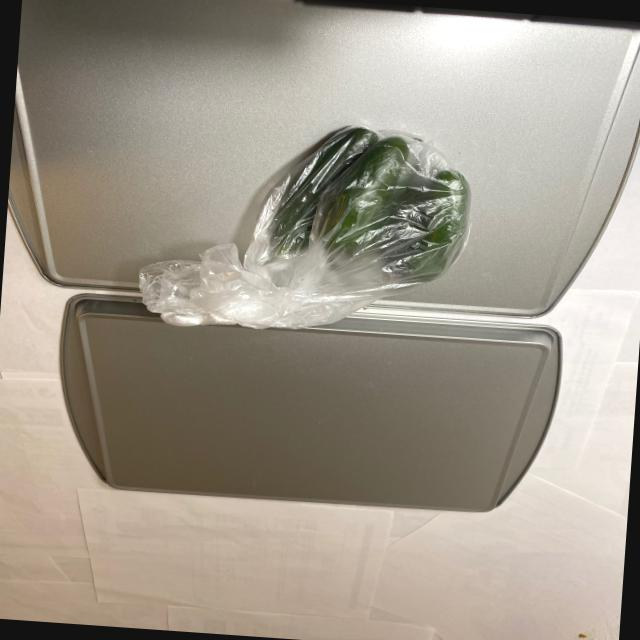chilli: (228, 118, 482, 316)
